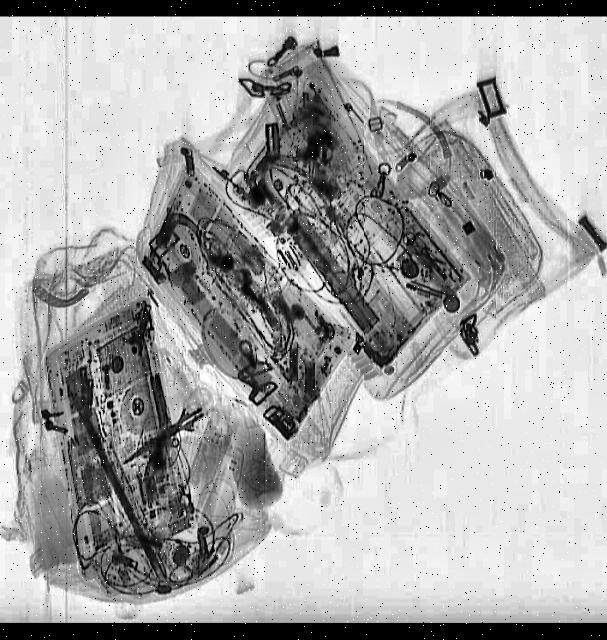Knife: (113, 401, 210, 478)
